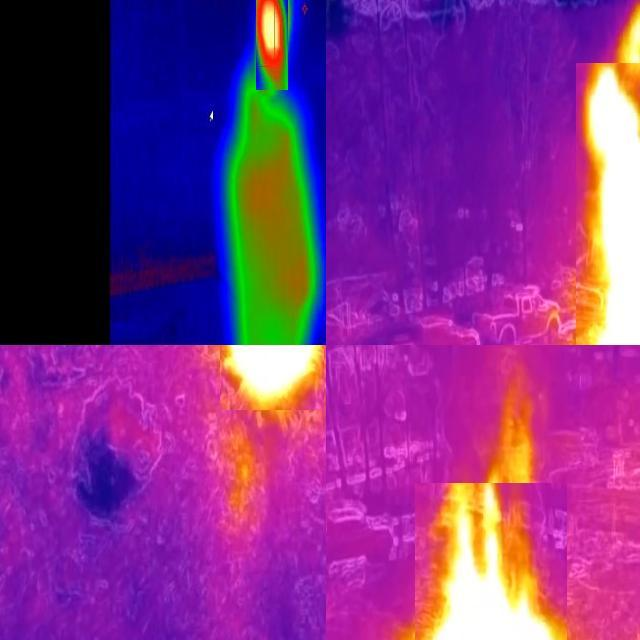fire: (415, 484, 567, 640), (577, 64, 640, 346), (221, 346, 325, 411), (257, 1, 289, 91)
